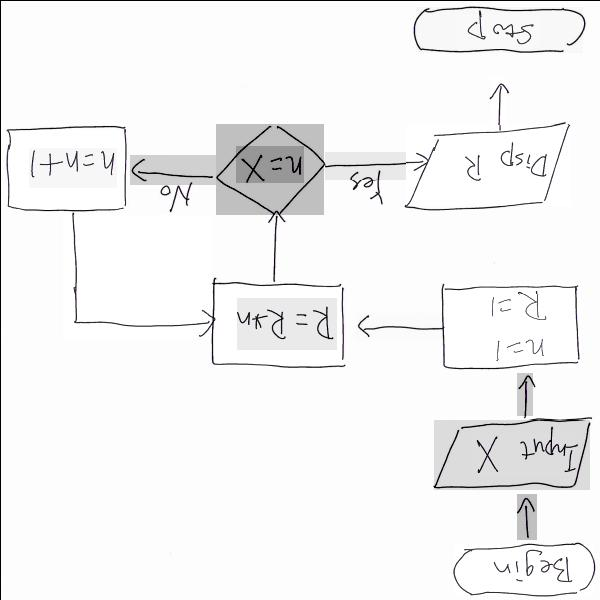arrow: (62, 214, 211, 338), (324, 150, 424, 178), (129, 154, 215, 184), (354, 312, 444, 340), (516, 493, 536, 539), (490, 76, 506, 126), (516, 372, 532, 415)
process: (442, 283, 580, 367), (213, 284, 343, 366), (6, 129, 126, 209)
terminator: (415, 6, 582, 52), (453, 544, 593, 595)
text: (405, 124, 569, 204), (433, 419, 589, 488), (215, 123, 322, 213), (236, 297, 336, 349), (476, 293, 550, 359), (471, 432, 574, 474), (28, 147, 116, 187), (456, 14, 540, 48), (462, 150, 546, 183), (235, 145, 303, 182)
